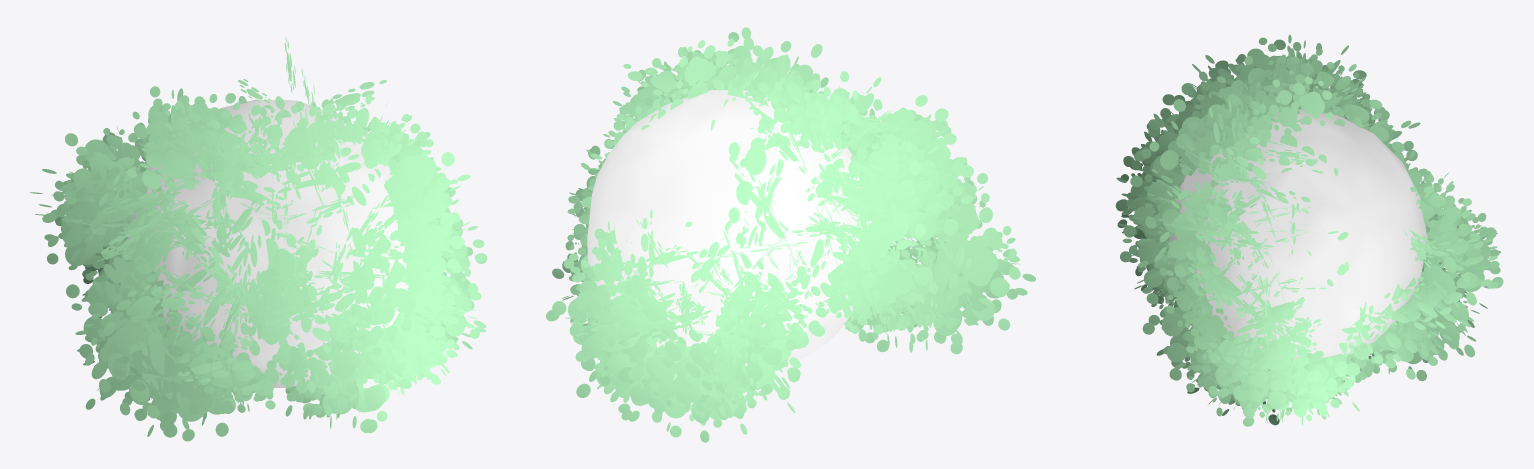
Rendered from Leaves02.fbx.
3 views of the same model, side by side, from view 1: azimuth 30°, elevation 25°; view 2: azimuth 150°, elevation 25°; view 3: azimuth 270°, elevation 25° (orthographic). The views are drawn at different scales.
Visible parts, largest first — view 1: Icosphere; view 2: Icosphere; view 3: Icosphere.
Boxes of the visible parts, box(x1,y1,x2,y2) form: Icosphere: box(29, 36, 486, 441); Icosphere: box(546, 27, 1035, 442); Icosphere: box(1115, 34, 1503, 426).
Size of the model in its own units: 813 by 701 by 758.
Materials: 2 (2 with a texture image).
